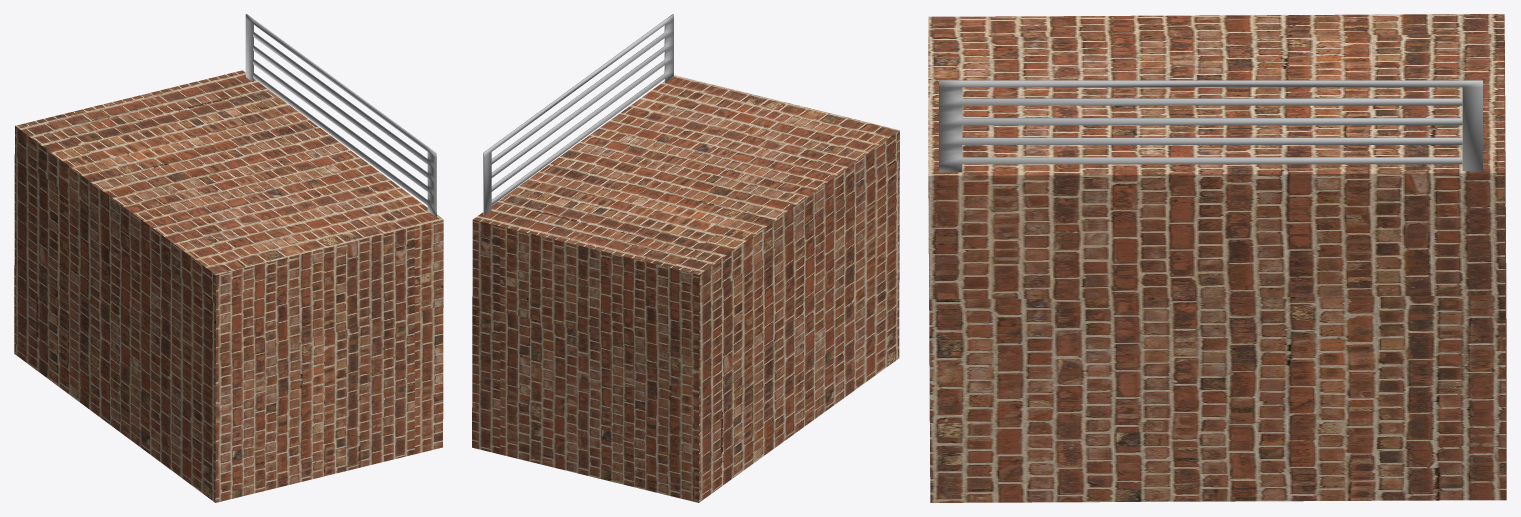
Rendered from ground.obj.
3 renders of one model, left to right at view 1: azimuth 30°, elevation 25°; view 2: azimuth 150°, elevation 25°; view 3: azimuth 270°, elevation 25°, orthographic. The views are drawn at different scales.
Visible parts, largest first — view 1: Cube_Cube.004; view 2: Cube_Cube.004; view 3: Cube_Cube.004.
Boxes of the visible parts, left/top/right/bottom form: Cube_Cube.004: left=14, top=14, right=443, bottom=502; Cube_Cube.004: left=472, top=14, right=899, bottom=502; Cube_Cube.004: left=928, top=14, right=1506, bottom=502.
Bounding box in the file's own units: 4.98 × 6.13 × 7.65.
